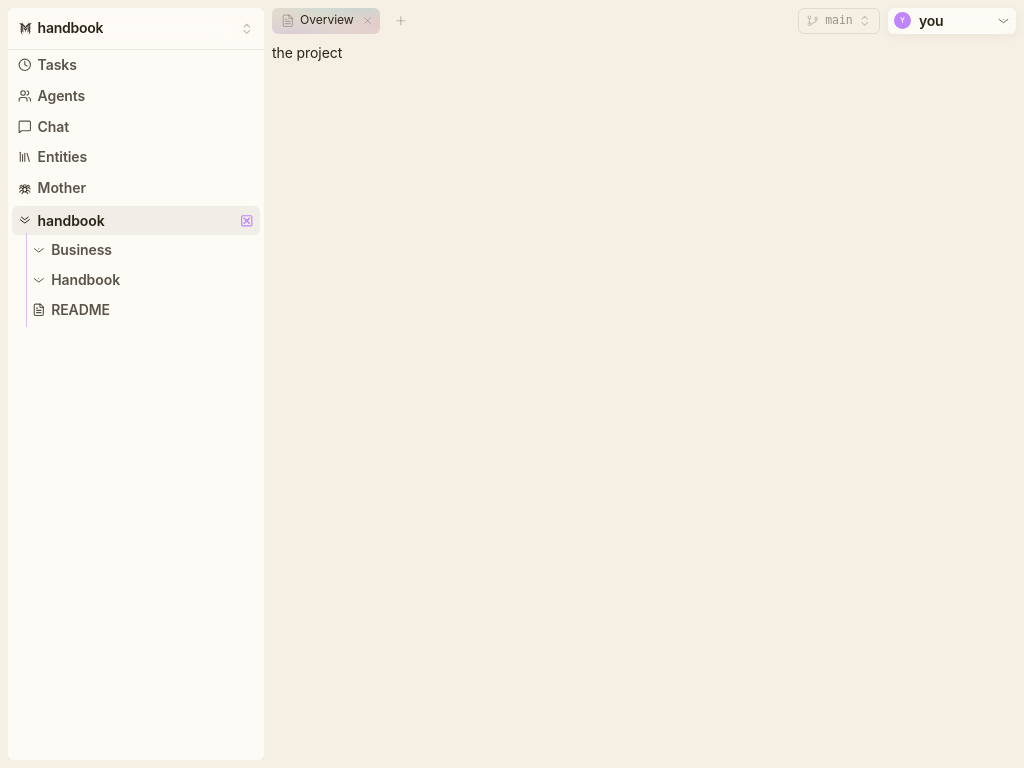
Scenario: closes a tab and goes back to the project when it was the last one
Expected: the tab "Overview" is shown, [272,8,380,34]
Click the button named "Close Overview". click: (367, 21)
box: [359,13,375,29]
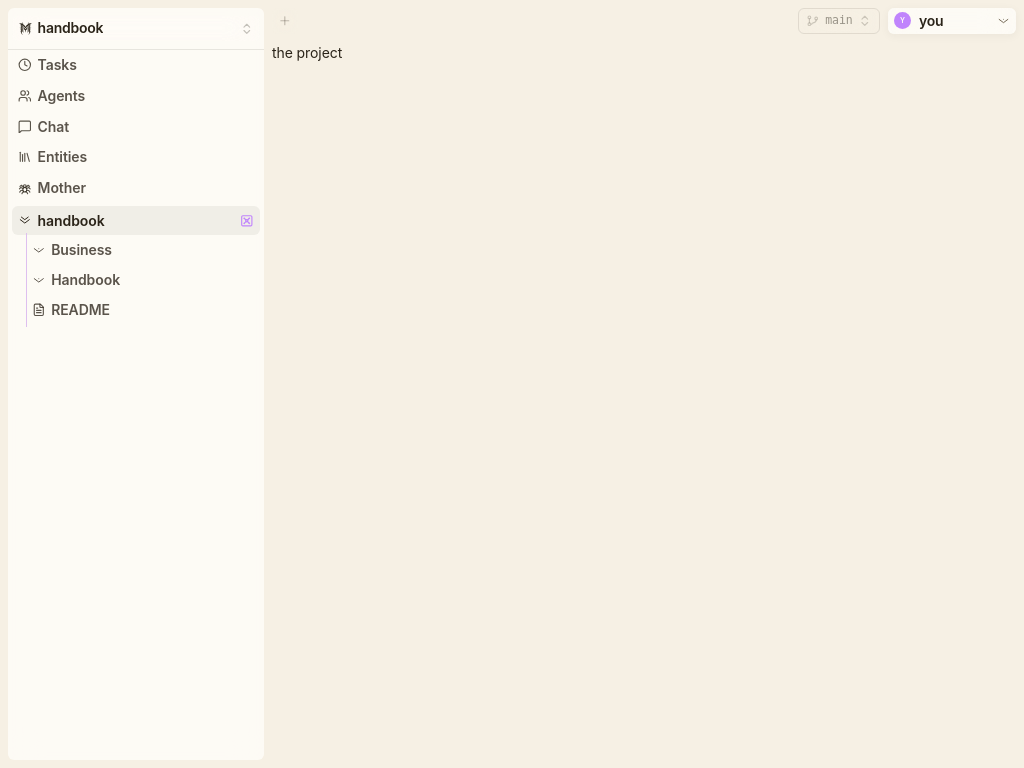
Now the tab is gone
